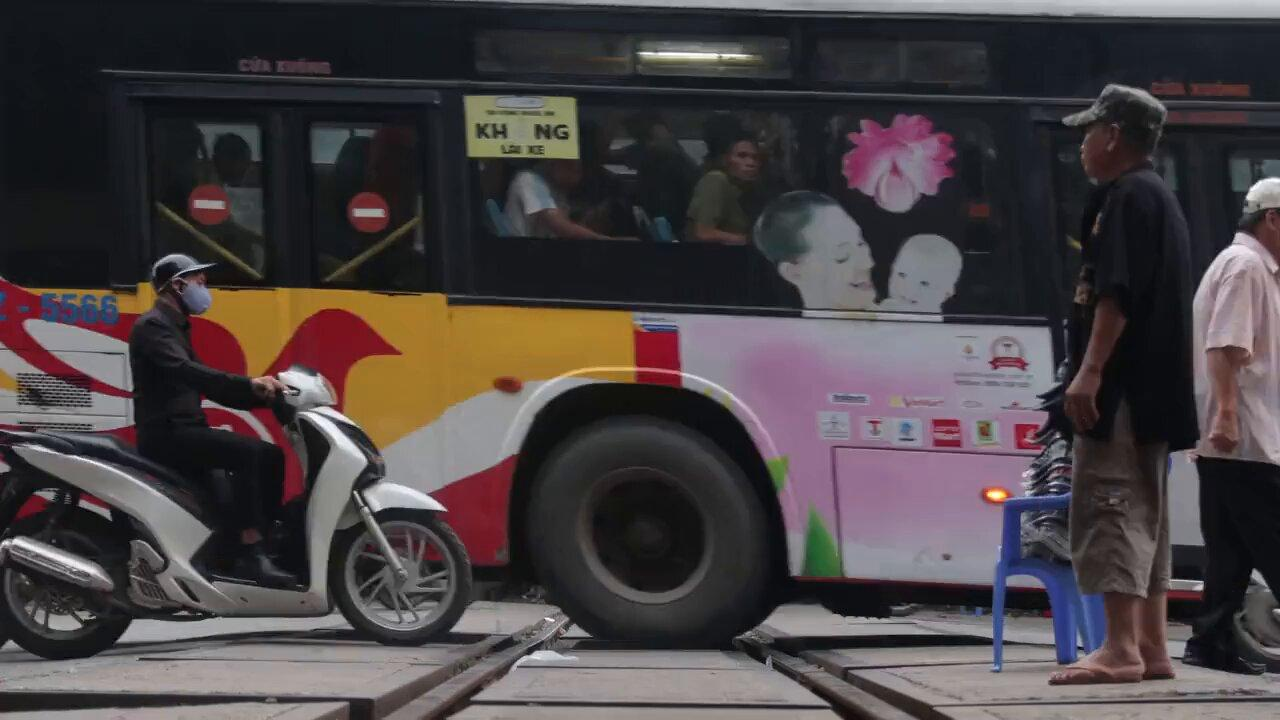driver: (2, 252, 474, 662)
helmet: (152, 253, 217, 316)
no-helmet: (1063, 84, 1169, 179)
